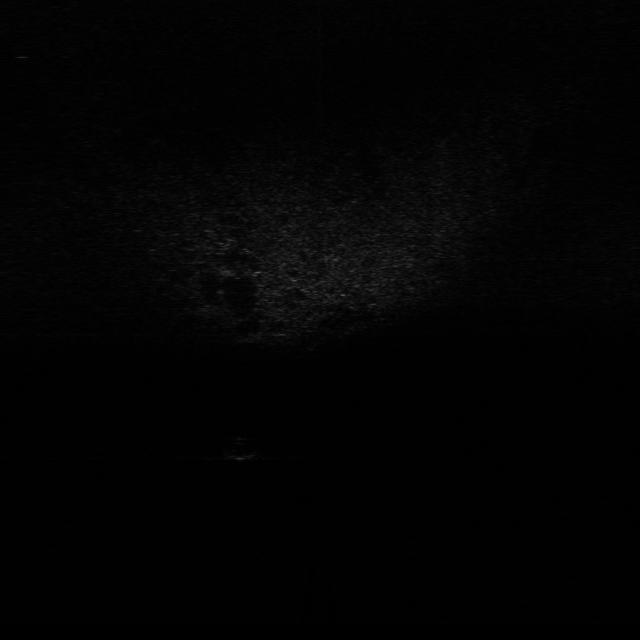ball: (220, 432, 264, 464)
